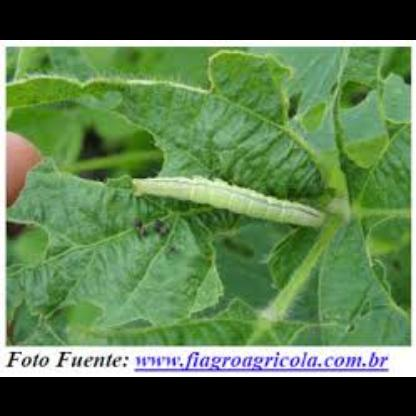agujero: (8, 91, 162, 187), (196, 216, 290, 322), (4, 214, 52, 264), (44, 292, 107, 328)
oruga: (131, 176, 331, 222)
